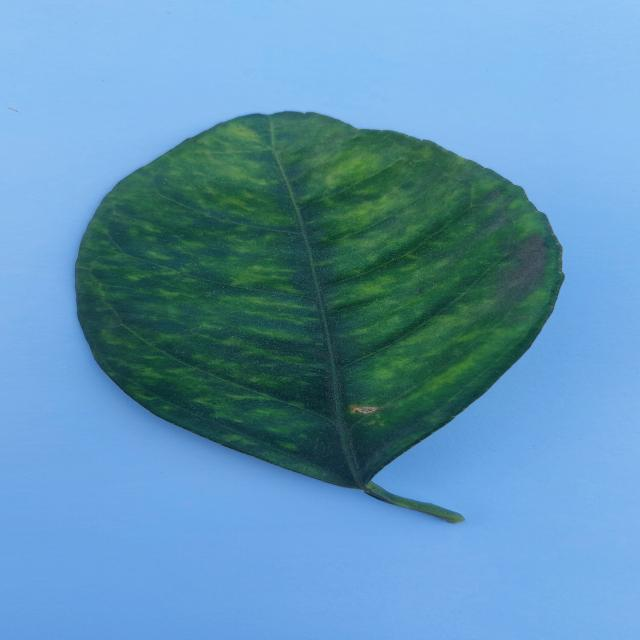greening: (76, 112, 562, 522)
